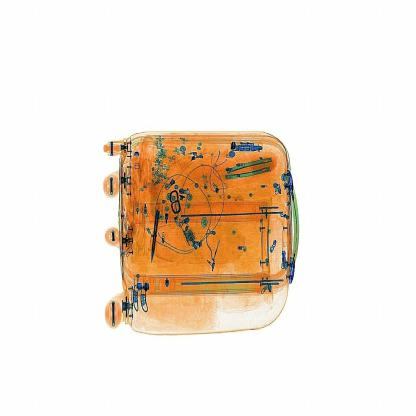gun: (136, 190, 166, 272)
